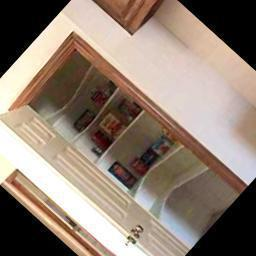Puerta: (0, 95, 188, 256)
